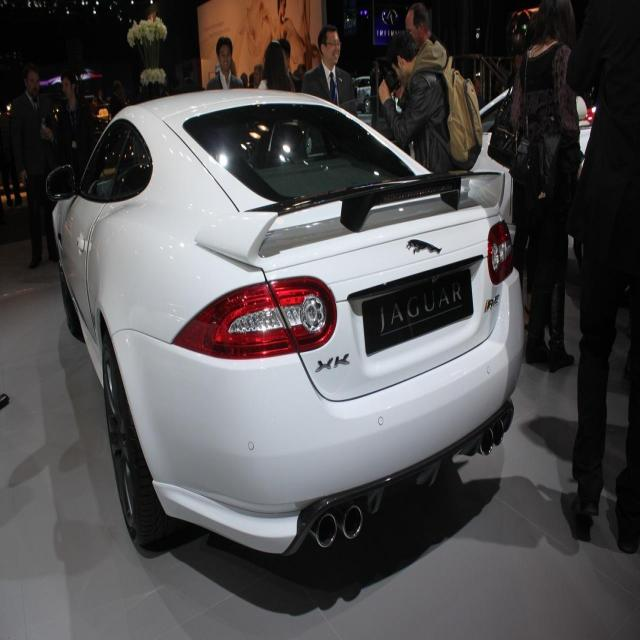Car: (33, 80, 527, 563)
